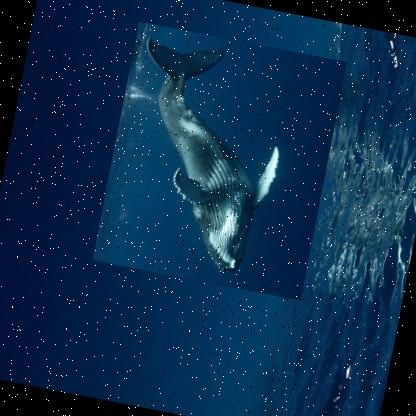blue_whale: (91, 19, 347, 299)
